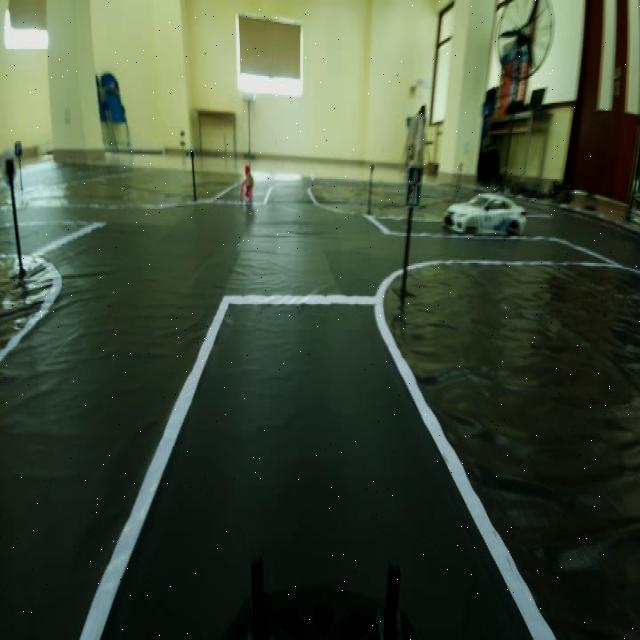highway_exit: (404, 162, 426, 215)
